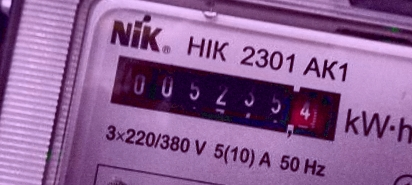0: (128, 69, 148, 98), (157, 72, 175, 99)
2: (212, 79, 230, 106)
3: (240, 82, 258, 109)
4: (295, 95, 314, 123)
5: (266, 87, 285, 116), (184, 75, 203, 103)
screen: (98, 45, 354, 151)
